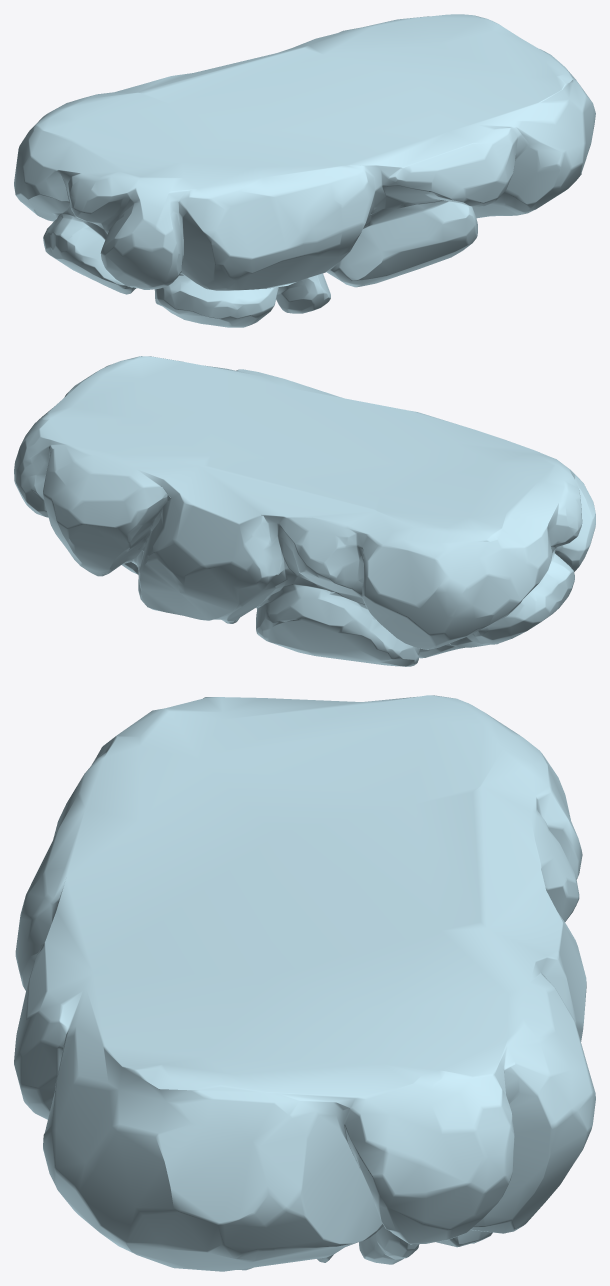
Rendered from island_2_LOD1.fbx.
3 renders of one model, top to bottom at view 1: azimuth 30°, elevation 25°; view 2: azimuth 150°, elevation 25°; view 3: azimuth 270°, elevation 25°, orthographic. The views are drawn at different scales.
Parts seen in each view (by area): view 1: Plane_001; view 2: Plane_001; view 3: Plane_001.
Boxes of the visible parts, box(x1,y1,x2,y2) form: Plane_001: box(14, 14, 595, 327); Plane_001: box(14, 356, 595, 666); Plane_001: box(14, 695, 595, 1271).
Bounding box in the file's own units: 2610 × 952 × 1454.
